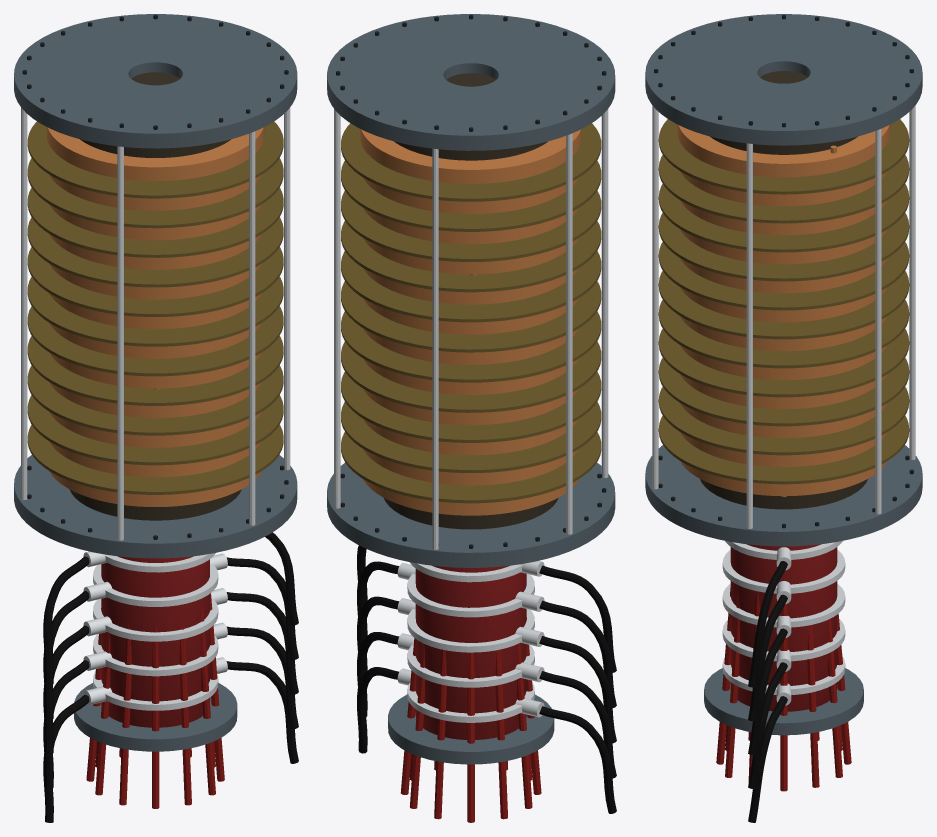
Rendered from slipring.glb.
The picture shows the model from 3 angles, left to right: view 1: azimuth 30°, elevation 25°; view 2: azimuth 150°, elevation 25°; view 3: azimuth 270°, elevation 25°; orthographic projection. The views are drawn at different scales.
Visible parts, largest first — view 1: slipring, swivel; view 2: slipring, swivel; view 3: slipring, swivel.
Part boxes in pixels (left/top/right/bottom): slipring: left=14, top=14, right=297, bottom=808; swivel: left=43, top=532, right=298, bottom=822; slipring: left=327, top=14, right=615, bottom=822; swivel: left=357, top=545, right=616, bottom=813; slipring: left=645, top=14, right=922, bottom=791; swivel: left=704, top=541, right=863, bottom=822.
Bounding box in the file's own units: 5.35 × 14.38 × 5.2.
